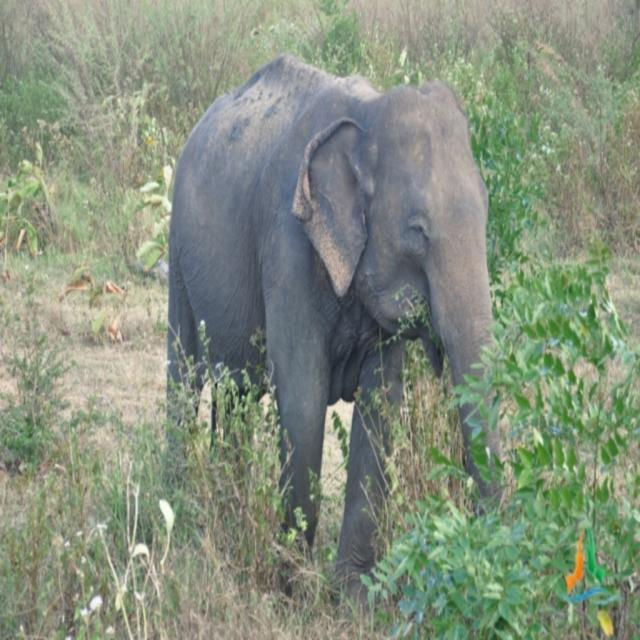elephant: (161, 48, 500, 583)
